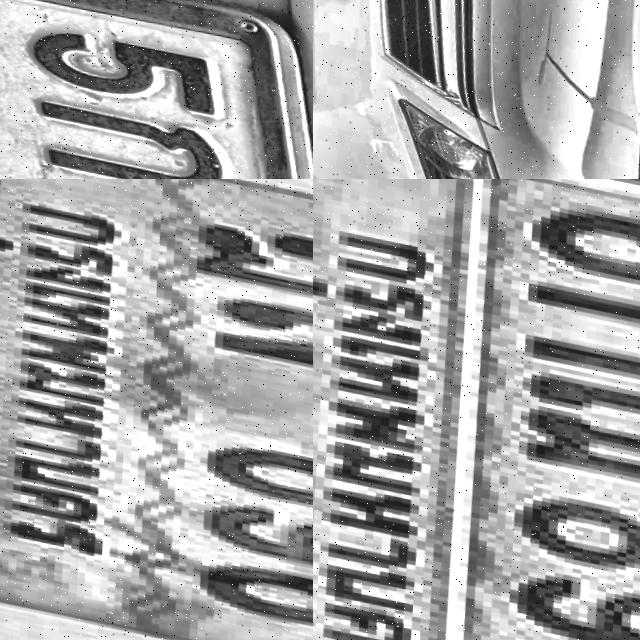license-plate: (313, 179, 640, 640), (0, 179, 313, 640), (0, 0, 313, 179)
